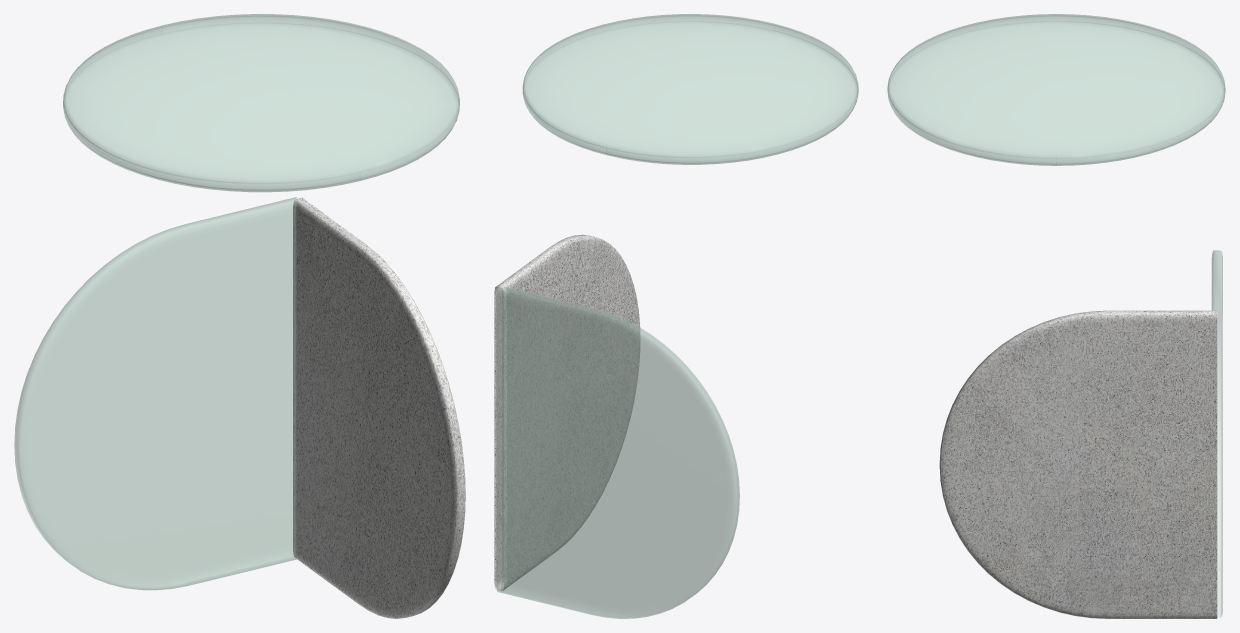
Rendered from A.Renewal.backplates.glb.
The picture shows the model from 3 angles, left to right: view 1: azimuth 30°, elevation 25°; view 2: azimuth 150°, elevation 25°; view 3: azimuth 270°, elevation 25°; orthographic projection. The views are drawn at different scales.
Visible parts, largest first — view 1: Plane.027, Circle_02.035, Plane.025; view 2: Plane.027, Circle_02.035, Plane.025; view 3: Plane.025, Circle_02.035, Plane.027.
Part boxes in pixels (bbox=[...]): Plane.027: bbox=[14, 197, 297, 590]; Circle_02.035: bbox=[63, 14, 459, 192]; Plane.025: bbox=[293, 197, 465, 618]; Plane.027: bbox=[496, 286, 739, 618]; Circle_02.035: bbox=[522, 14, 858, 164]; Plane.025: bbox=[494, 234, 640, 591]; Plane.025: bbox=[939, 310, 1217, 618]; Circle_02.035: bbox=[887, 14, 1225, 165]; Plane.027: bbox=[1211, 250, 1222, 617].
Bounding box in the file's own units: 0.5253 × 0.82 × 0.5253.
Materials: 2 (2 with a texture image).
